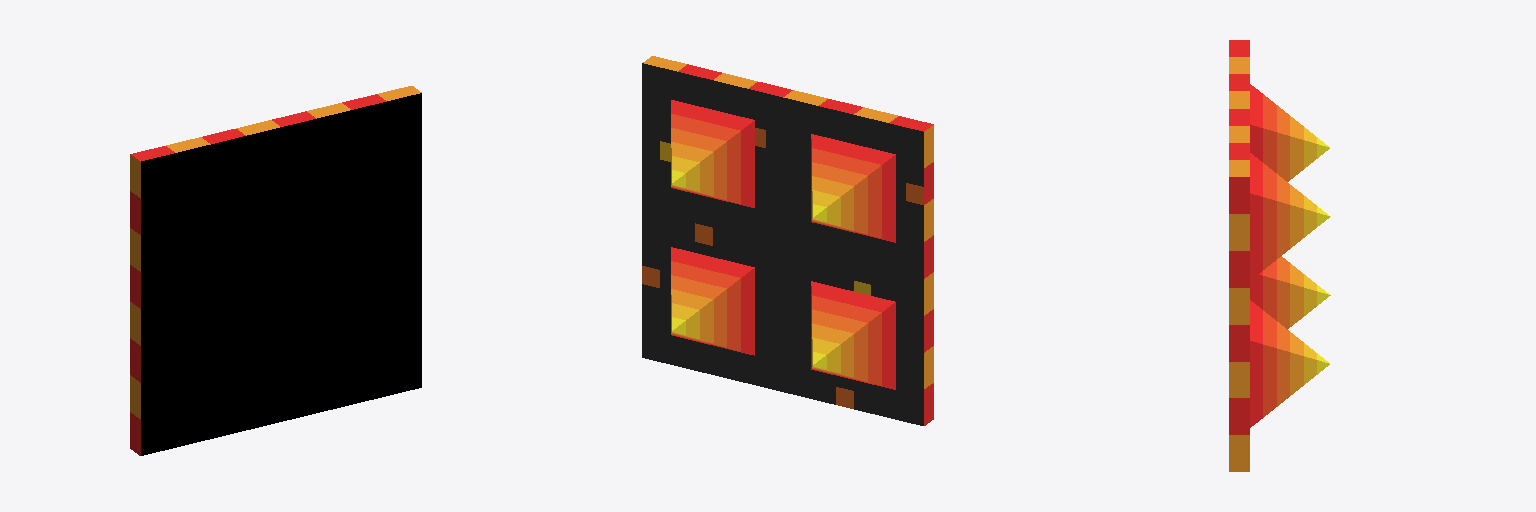
3 renders of one model, left to right at view 1: azimuth 30°, elevation 25°; view 2: azimuth 150°, elevation 25°; view 3: azimuth 270°, elevation 25°, orthographic.
Parts seen in each view (by area): view 1: Base; view 2: Base, Spike1.003, Spike1.002, Spike1, Spike1.001; view 3: Base, Spike1.001, Spike1, Spike1.003, Spike1.002.
Boxes of the visible parts, <box> form: Base: <box>130,86,421,455</box>; Base: <box>642,56,933,425</box>; Spike1.003: <box>811,134,895,242</box>; Spike1.002: <box>811,281,895,389</box>; Spike1: <box>671,247,754,355</box>; Spike1.001: <box>671,100,754,207</box>; Base: <box>1229,40,1249,471</box>; Spike1.001: <box>1250,153,1330,280</box>; Spike1: <box>1250,300,1329,427</box>; Spike1.003: <box>1250,84,1329,181</box>; Spike1.002: <box>1250,256,1330,329</box>.
Bounding box in the file's own units: 1.6 × 1.6 × 0.5.
Materials: 1 (1 with a texture image).